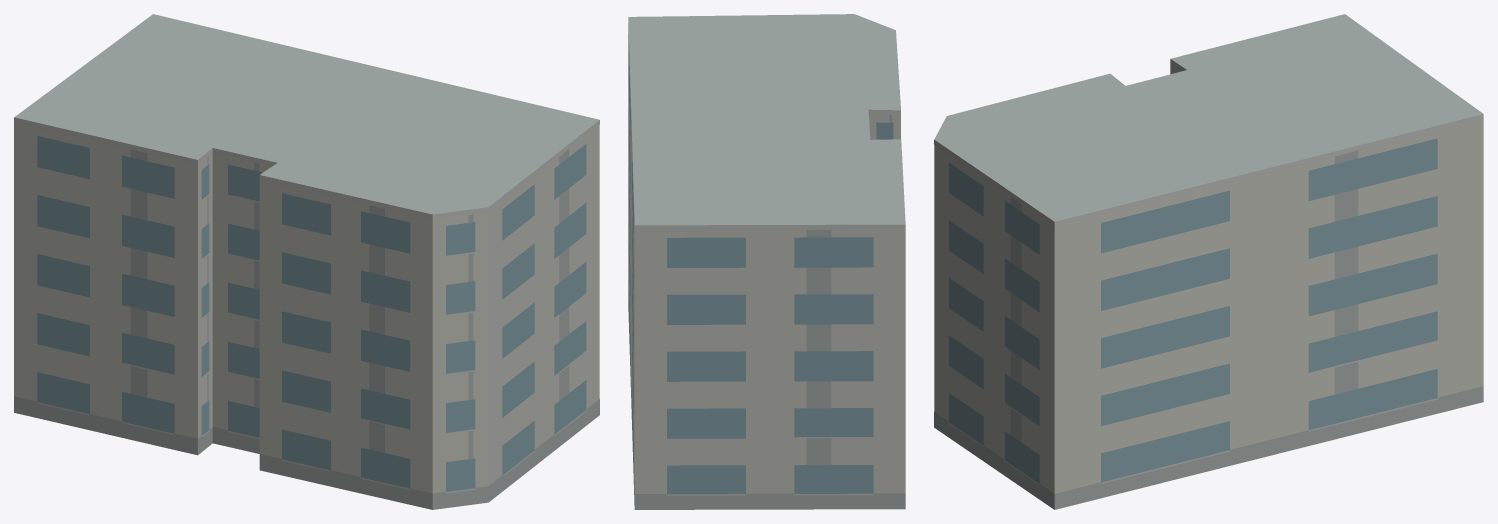
Rendered from survey-upis-32980543.glb.
3 views of the same model, side by side, from view 1: azimuth 30°, elevation 25°; view 2: azimuth 150°, elevation 25°; view 3: azimuth 270°, elevation 25° (orthographic). The views are drawn at different scales.
Visible parts, largest first — view 1: survey-upis-32980543.tmp; view 2: survey-upis-32980543.tmp; view 3: survey-upis-32980543.tmp.
Part boxes in pixels (<box>): survey-upis-32980543.tmp: <box>14,14,599,509</box>; survey-upis-32980543.tmp: <box>628,14,905,509</box>; survey-upis-32980543.tmp: <box>934,14,1483,509</box>.
Size of the model in its own units: 21.52 by 13.9 by 24.04.
